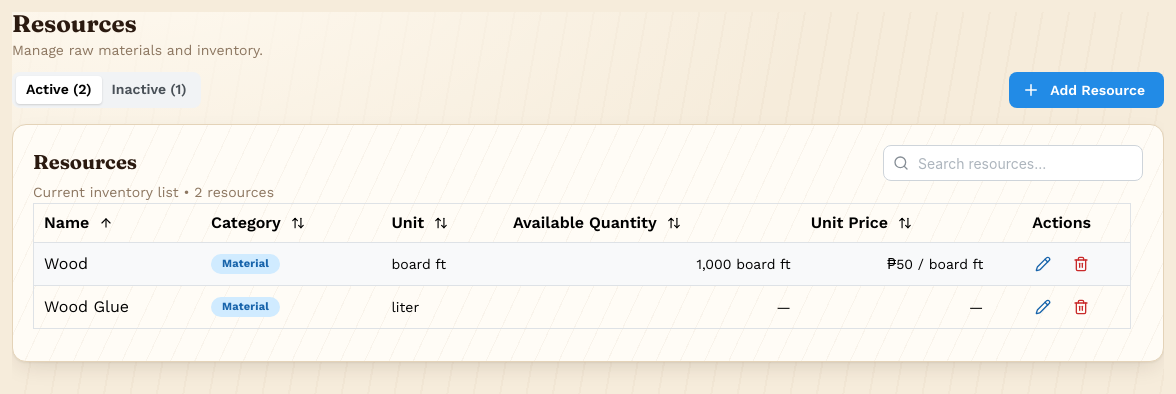
Test case: ResourcesPage resource-update notification › offers reactivate and permanent delete on an inactive resource
This screenshot has width=1176, height=394.
Check: the text "Wood" is shown, box [44,252,88,277]
Click the radio button labelled "Inactive (1)" at {"x": 149, "y": 90}, box [112,82,187,98]
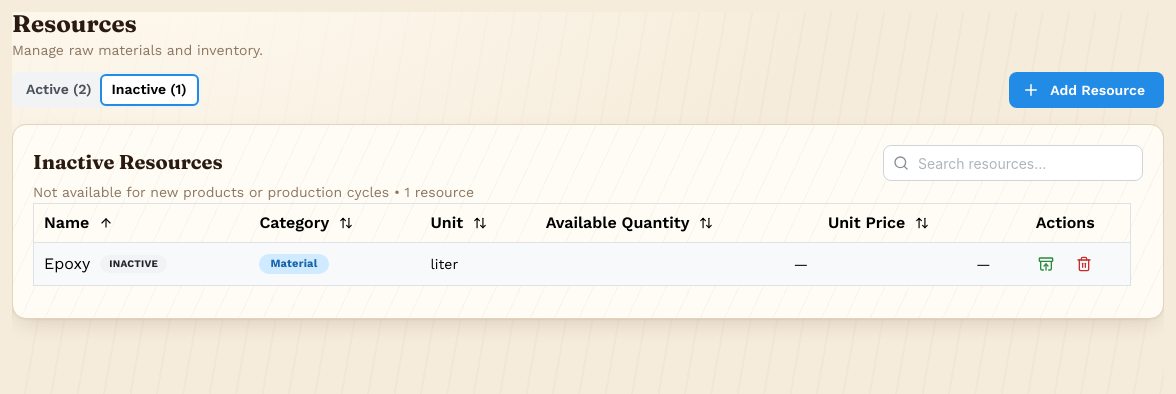
Check: the text "Epoxy" is shown, box [44,252,90,277]
Check: the button named "reactivate epoxy" is shown, box [1032,250,1060,278]
Check: the button named "delete epoxy permanently" is shown, box [1070,250,1098,278]
